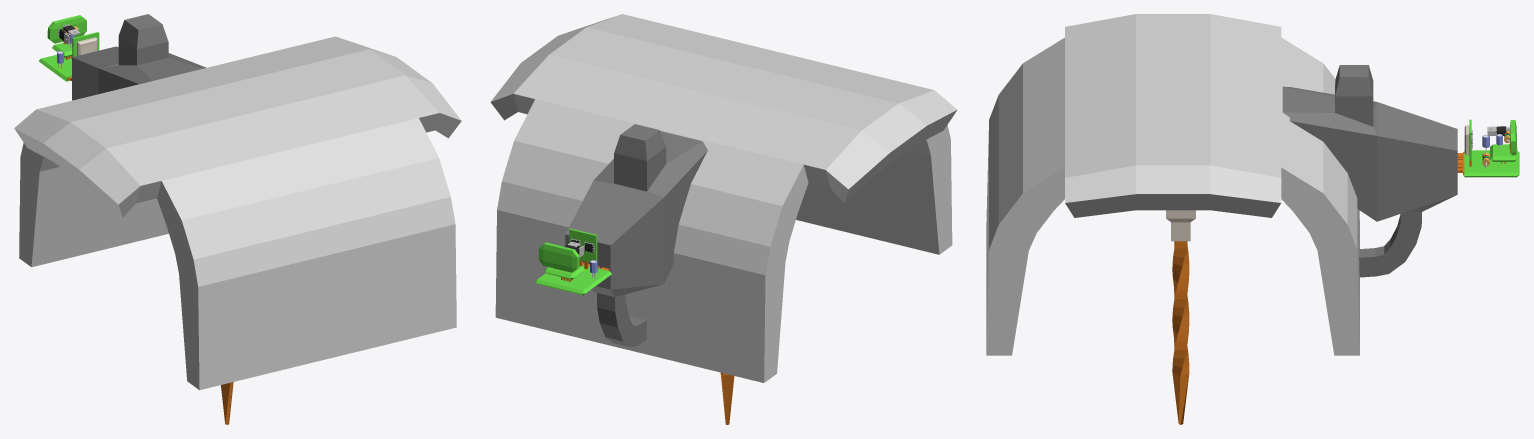
File: Miner_Machine.fbx
The picture shows the model from 3 angles, left to right: view 1: azimuth 30°, elevation 25°; view 2: azimuth 150°, elevation 25°; view 3: azimuth 270°, elevation 25°; orthographic projection. The views are drawn at different scales.
Visible parts, largest first — view 1: Cube; view 2: Cube, Cube.002; view 3: Cube, Cube.002.
Boxes of the visible parts, x1,y1,x2,y2 form: Cube: (14, 14, 461, 390); Cube: (490, 14, 957, 382); Cube.002: (720, 372, 734, 424); Cube: (986, 14, 1519, 355); Cube.002: (1172, 241, 1189, 424).
Size of the model in its own units: 731 by 674 by 922.
